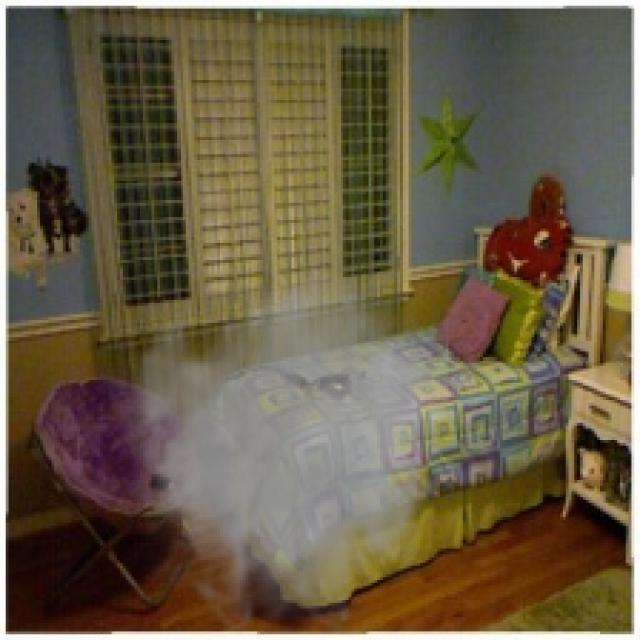Smoke: (102, 260, 448, 637)
